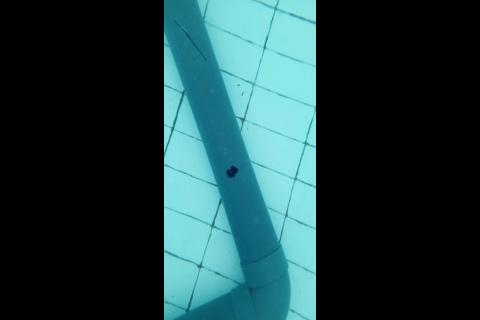kebocoran: (225, 164, 239, 178)
keretakan: (173, 17, 208, 61)
